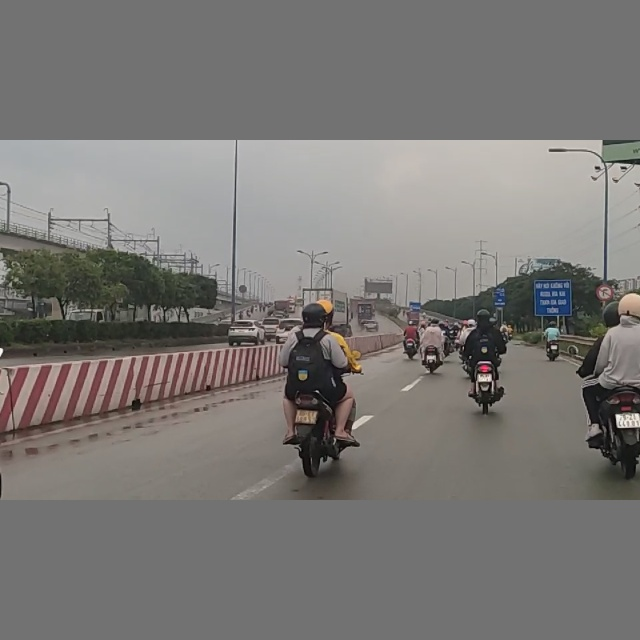P.123b: (598, 285, 613, 303)
